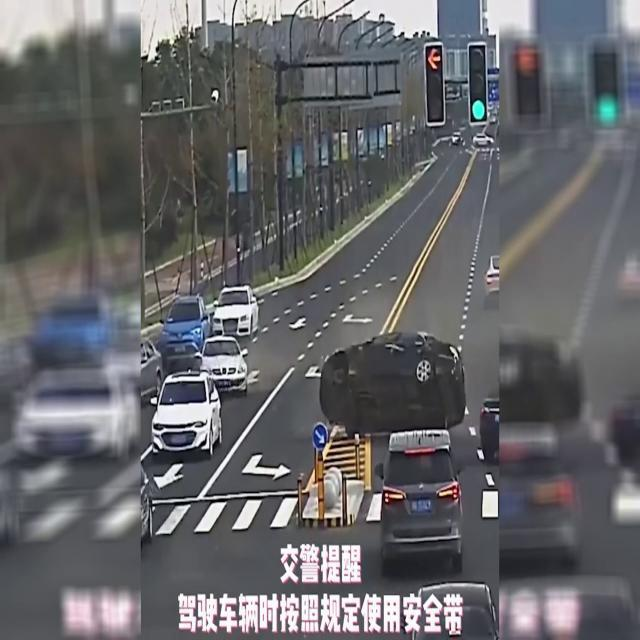accident: (314, 328, 468, 440)
non-accident: (142, 284, 260, 460), (151, 336, 249, 459), (158, 294, 248, 396), (195, 286, 259, 396)
